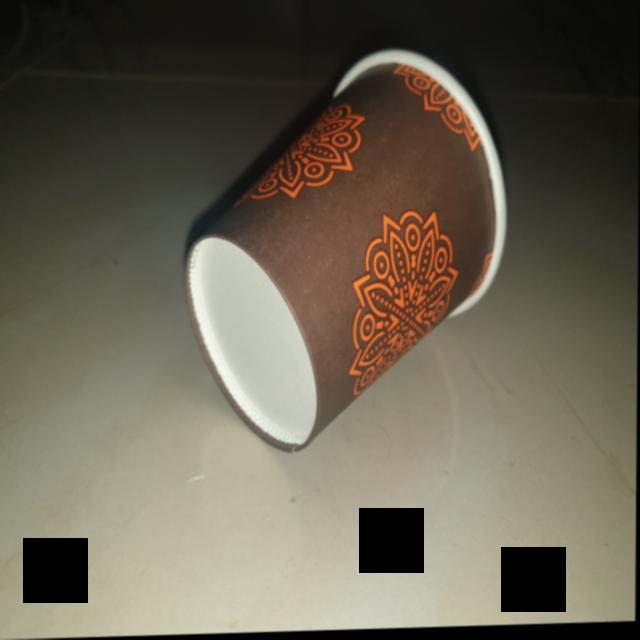cups: (178, 46, 511, 460)
